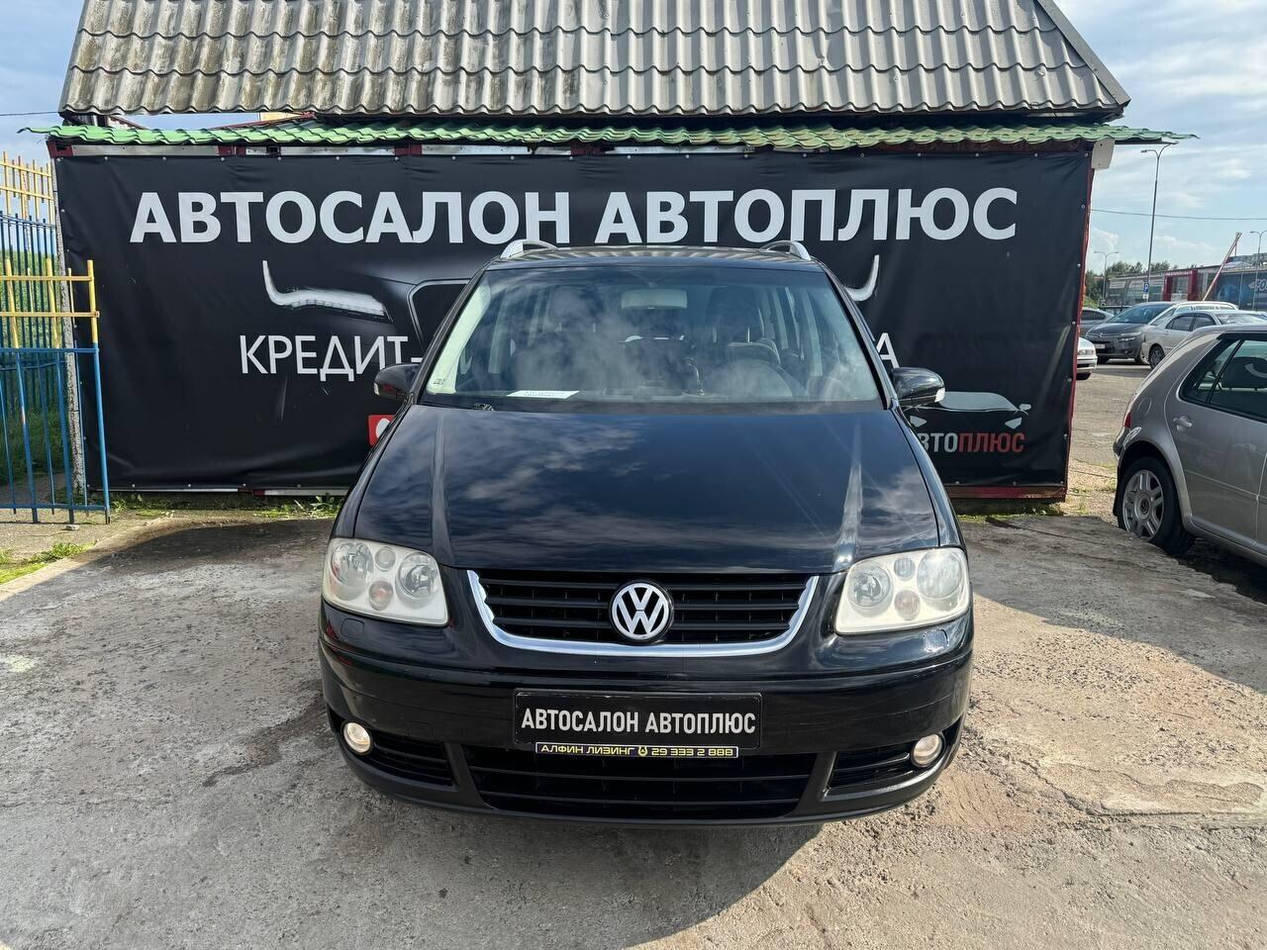Touran_2003-2006: (312, 239, 977, 824)
